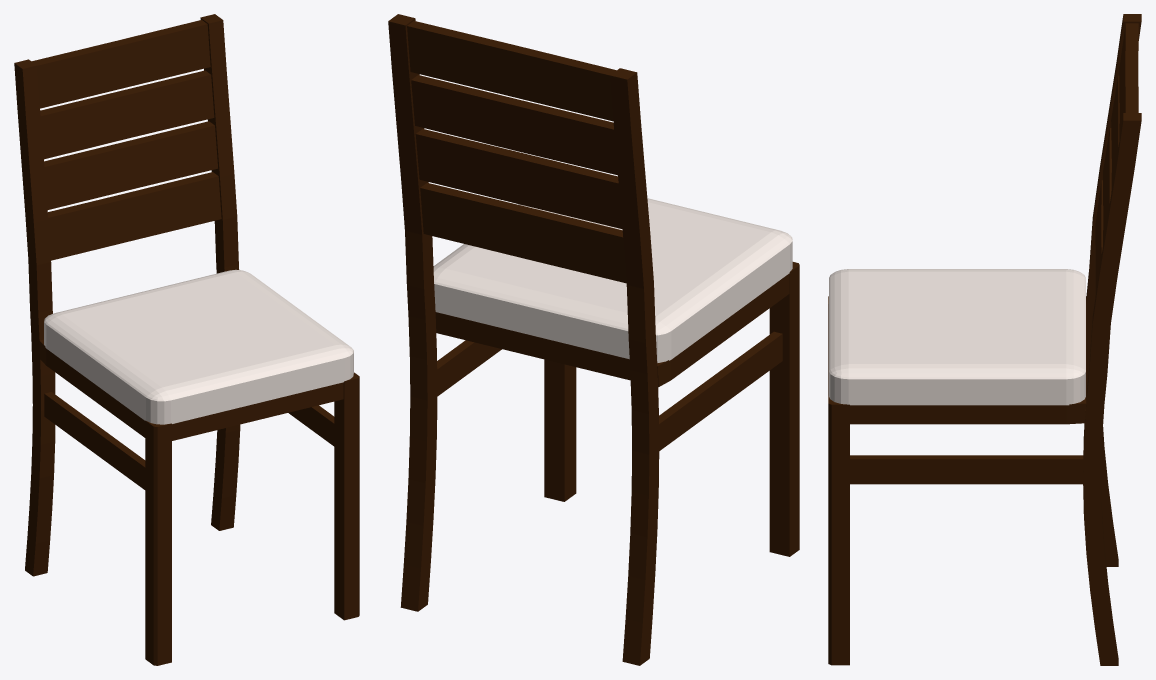
The model's file is fourHorizontalbackrestChair.fbx.
3 views of the same model, side by side, from view 1: azimuth 30°, elevation 25°; view 2: azimuth 150°, elevation 25°; view 3: azimuth 270°, elevation 25° (orthographic). The views are drawn at different scales.
Visible parts, largest first — view 1: chair; view 2: chair; view 3: chair.
Part boxes in pixels (left/top/right/bottom): chair: left=14, top=14, right=359, bottom=665; chair: left=388, top=14, right=799, bottom=665; chair: left=828, top=14, right=1141, bottom=665.
Size of the model in its own units: 49.56 by 115 by 59.84.
